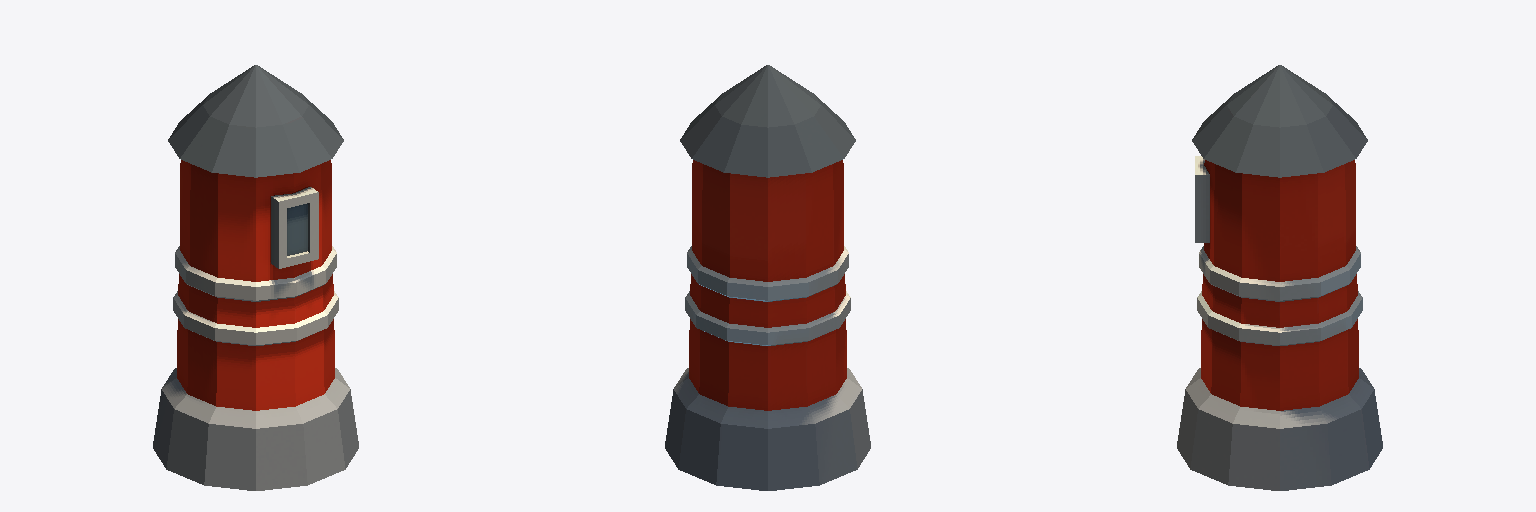
The picture shows the model from 3 angles: view 1: azimuth 30°, elevation 25°; view 2: azimuth 150°, elevation 25°; view 3: azimuth 270°, elevation 25°; orthographic projection.
Parts seen in each view (by area): view 1: silo; view 2: silo; view 3: silo.
Part boxes in pixels (x1,y1,x2,y2): silo: (153,65,358,490); silo: (665,65,870,490); silo: (1177,65,1382,490).
Size of the model in its own units: 1.13 by 2.3 by 1.13.
1 materials, 1 textured.